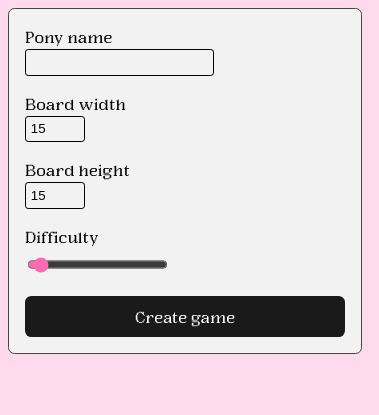
Scenario: <CreateGameForm /> › should handle server error correctly
In the field labelled "Pony name": (119, 62) [25,49,214,76], type "Not a pony"
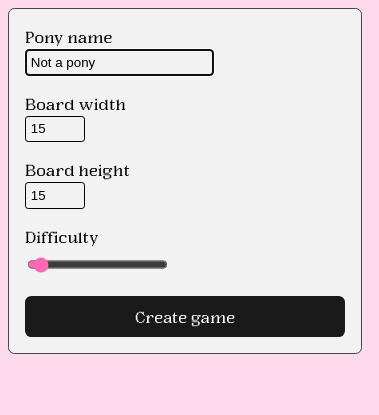
Click the button "Create game": (185, 316) [25,296,345,337]
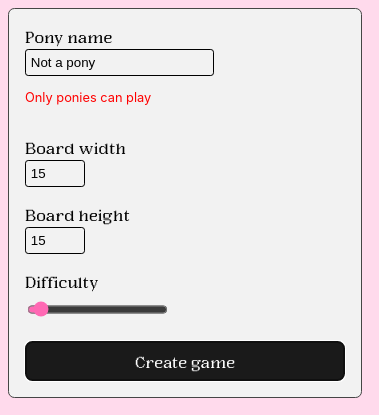
Result: the text "Only ponies can play" is shown at [25,88,151,108]
